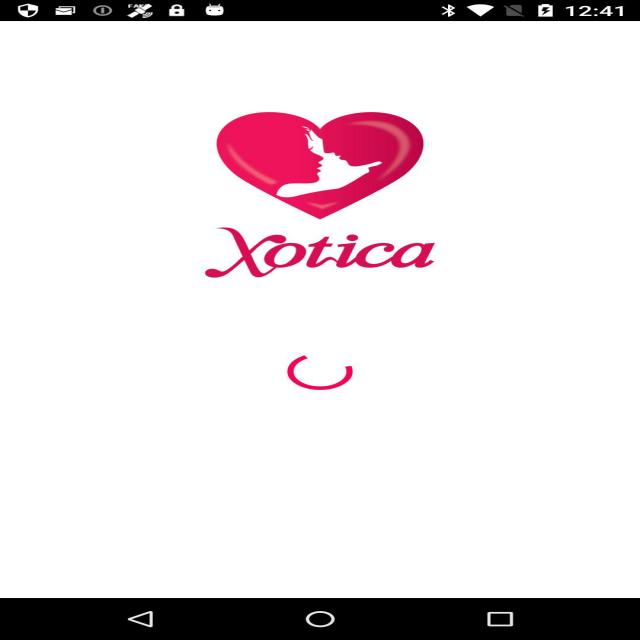icon: (171, 108, 538, 289)
